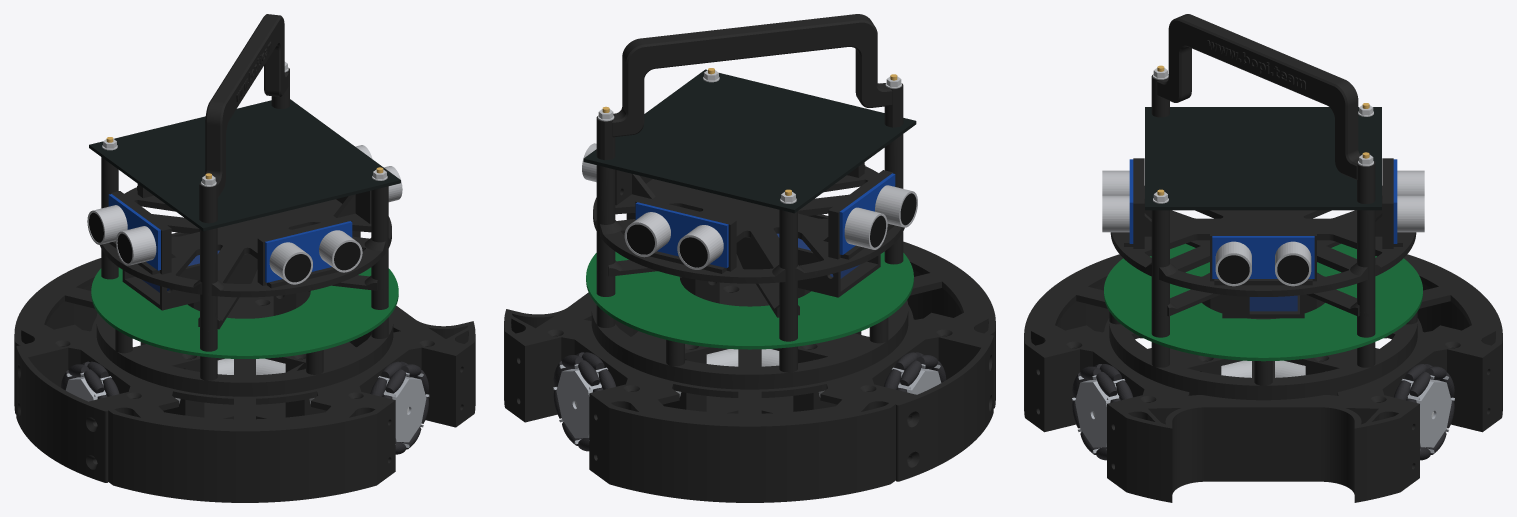
The model's file is Roboter.glb.
The picture shows the model from 3 angles, left to right: view 1: azimuth 30°, elevation 25°; view 2: azimuth 150°, elevation 25°; view 3: azimuth 270°, elevation 25°; orthographic projection. The views are drawn at different scales.
Parts seen in each view (by area): view 1: Unterbau/rahmen, Unterbau/wand_rechts, Elektronik/Mainboard, Ebene2/e2_deck, Elektronik/IR_Platine, Unterbau/wand_hinten, Ebene2/e2_henkel, Ebene2/e2_akkuwanne, Unterbau/ballmulde, Unterbau/wand_links, Elektronik/Ultraschall_180_wandler, Antrieb/rad_nabe_300 (+14 smaller); view 2: Unterbau/rahmen, Unterbau/wand_links, Elektronik/Mainboard, Ebene2/e2_deck, Elektronik/IR_Platine, Ebene2/e2_henkel, Unterbau/wand_hinten, Ebene2/e2_akkuwanne, Unterbau/ballmulde, Unterbau/wand_rechts, Elektronik/Ultraschall_180_wandler, Antrieb/rad_nabe_060 (+14 smaller); view 3: Unterbau/ballmulde, Unterbau/rahmen, Elektronik/Mainboard, Ebene2/e2_deck, Elektronik/IR_Platine, Ebene2/e2_henkel, Unterbau/wand_links, Unterbau/wand_rechts, Ebene2/e2_akkuwanne, Elektronik/Ultraschall_000_pcb, Antrieb/rad_nabe_300, Antrieb/rad_nabe_060 (+9 smaller).
Boxes of the visible parts, <box> form: Unterbau/rahmen: <box>22,261,460,428</box>; Unterbau/wand_rechts: <box>94,399,395,502</box>; Elektronik/Mainboard: <box>89,99,400,231</box>; Ebene2/e2_deck: <box>100,157,391,297</box>; Elektronik/IR_Platine: <box>91,267,398,358</box>; Unterbau/wand_hinten: <box>16,345,108,482</box>; Ebene2/e2_henkel: <box>199,14,289,223</box>; Ebene2/e2_akkuwanne: <box>101,231,388,331</box>; Unterbau/ballmulde: <box>349,305,475,427</box>; Unterbau/wand_links: <box>14,258,101,414</box>; Elektronik/Ultraschall_180_wandler: <box>87,205,156,265</box>; Antrieb/rad_nabe_300: <box>378,372,429,447</box>; Unterbau/rahmen: <box>519,245,987,423</box>; Unterbau/wand_links: <box>589,392,909,502</box>; Elektronik/Mainboard: <box>583,69,916,213</box>; Ebene2/e2_deck: <box>593,134,904,283</box>; Elektronik/IR_Platine: <box>586,251,913,349</box>; Ebene2/e2_henkel: <box>596,14,903,160</box>; Unterbau/wand_hinten: <box>896,335,993,481</box>; Ebene2/e2_akkuwanne: <box>596,213,903,320</box>; Unterbau/ballmulde: <box>504,292,638,422</box>; Unterbau/wand_rechts: <box>903,241,995,408</box>; Elektronik/Ultraschall_180_wandler: <box>844,185,917,249</box>; Antrieb/rad_nabe_060: <box>553,364,607,444</box>; Unterbau/ballmulde: <box>1107,402,1419,502</box>; Unterbau/rahmen: <box>1032,257,1494,410</box>; Elektronik/Mainboard: <box>1145,107,1381,210</box>; Ebene2/e2_deck: <box>1110,158,1416,296</box>; Elektronik/IR_Platine: <box>1104,243,1422,361</box>; Ebene2/e2_henkel: <box>1151,14,1375,203</box>; Unterbau/wand_links: <box>1405,254,1502,432</box>; Unterbau/wand_rechts: <box>1024,254,1121,432</box>; Ebene2/e2_akkuwanne: <box>1151,240,1375,318</box>; Elektronik/Ultraschall_000_pcb: <box>1212,236,1314,278</box>; Antrieb/rad_nabe_300: <box>1072,375,1125,453</box>; Antrieb/rad_nabe_060: <box>1401,375,1454,453</box>.
Size of the model in its own units: 0.2021 by 0.1777 by 0.21.
